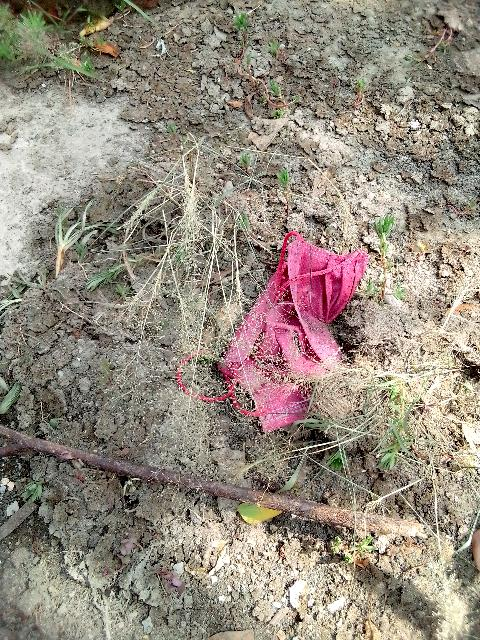mask: (246, 232, 354, 428)
